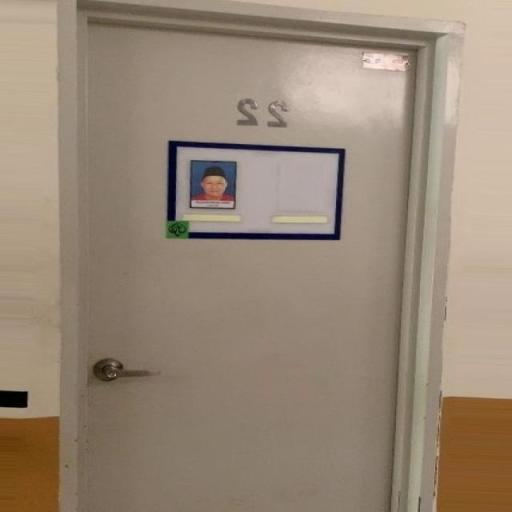door: (61, 3, 438, 510)
